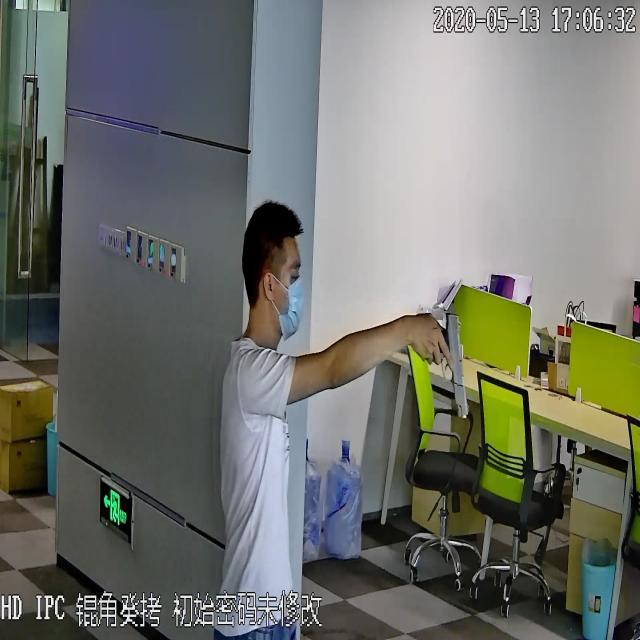gun: (421, 305, 471, 425)
